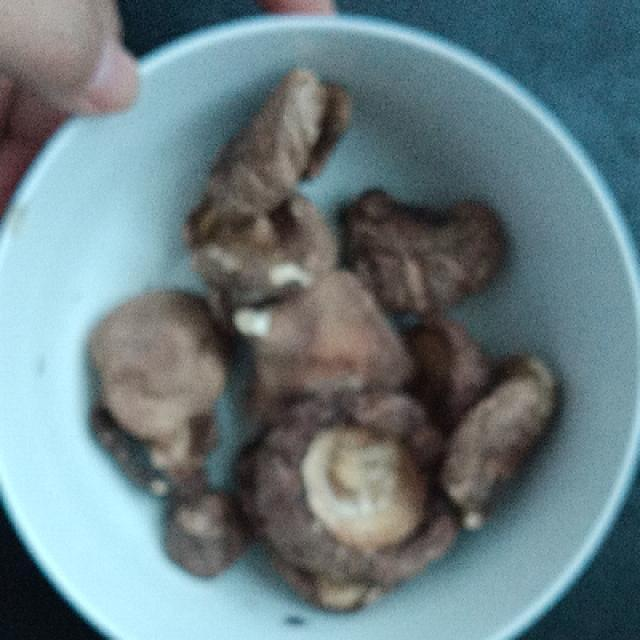Lentinus edodes: (254, 385, 459, 574)
